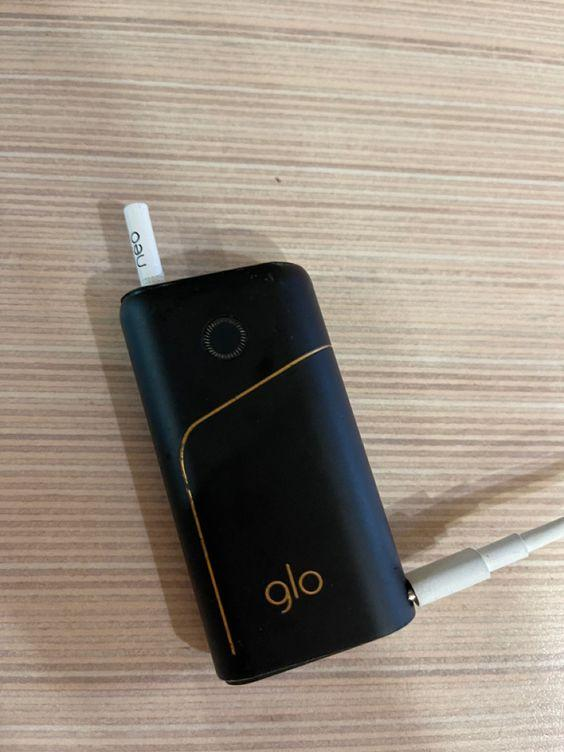iqos: (121, 203, 421, 684)
